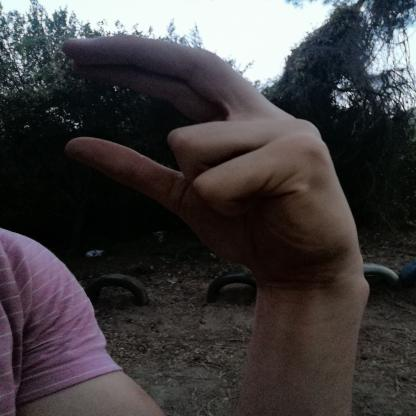DHELL: (41, 24, 381, 292)
